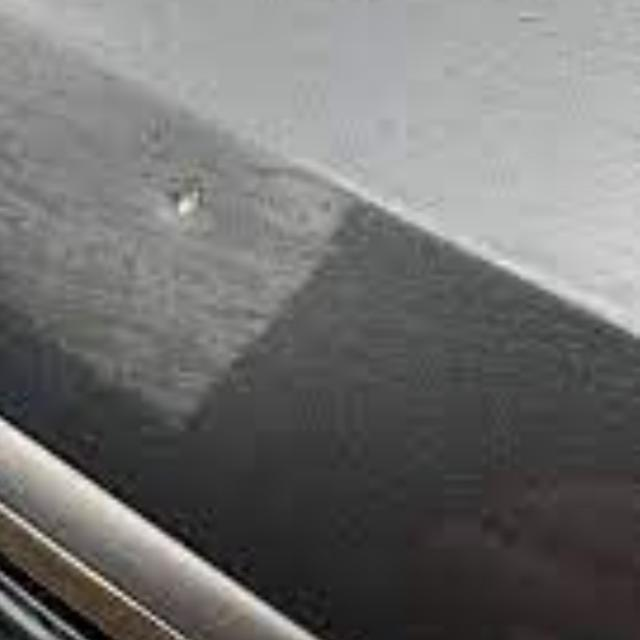dents: (141, 176, 245, 243)
